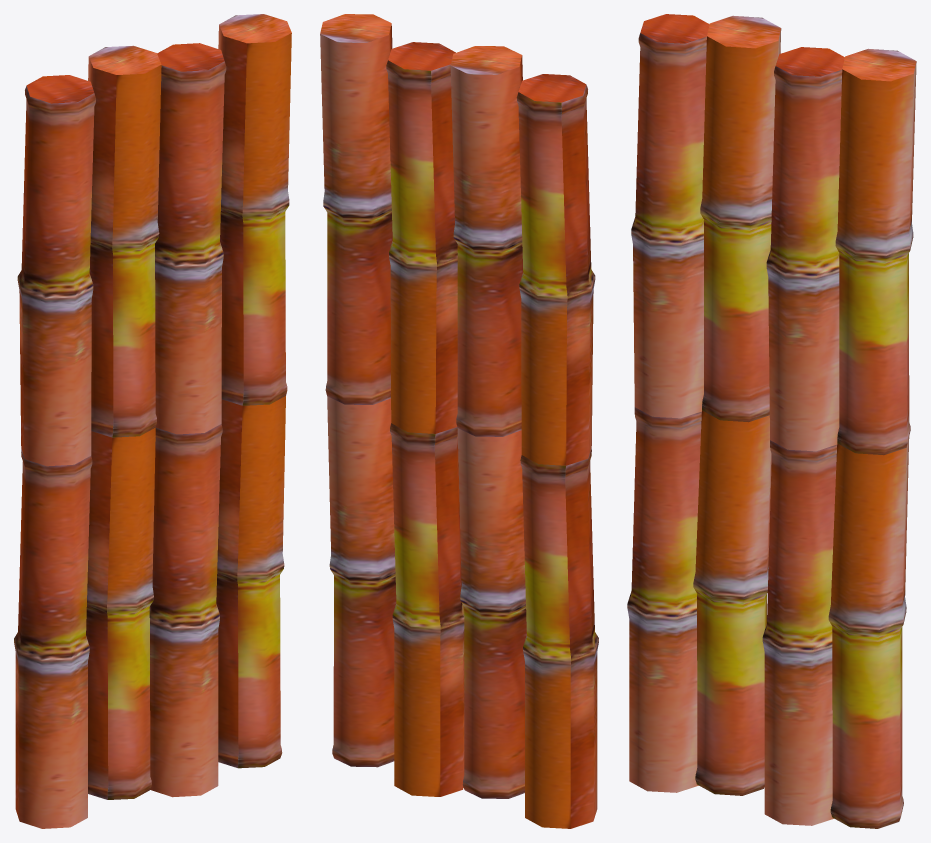
File: sugarcane plants.fbx
3 views of the same model, side by side, from view 1: azimuth 30°, elevation 25°; view 2: azimuth 150°, elevation 25°; view 3: azimuth 330°, elevation 25° (orthographic). The views are drawn at different scales.
Visible parts, largest first — view 1: pCylinder3, pCylinder8, pCylinder7, pCylinder5; view 2: pCylinder3, pCylinder8, pCylinder5, pCylinder7; view 3: pCylinder7, pCylinder5, pCylinder8, pCylinder3.
Part boxes in pixels (x1,y1,x2,y2): pCylinder3: (14, 75, 95, 828); pCylinder8: (149, 43, 226, 797); pCylinder7: (216, 14, 291, 768); pCylinder5: (86, 45, 161, 799); pCylinder3: (516, 74, 598, 828); pCylinder8: (386, 42, 464, 796); pCylinder5: (450, 46, 526, 798); pCylinder7: (320, 14, 396, 767); pCylinder7: (828, 48, 916, 828); pCylinder5: (693, 15, 781, 795); pCylinder8: (762, 47, 844, 825); pCylinder3: (627, 14, 709, 792).
Size of the model in its own units: 19.02 by 49.45 by 4.85.
1 material, 1 textured.
